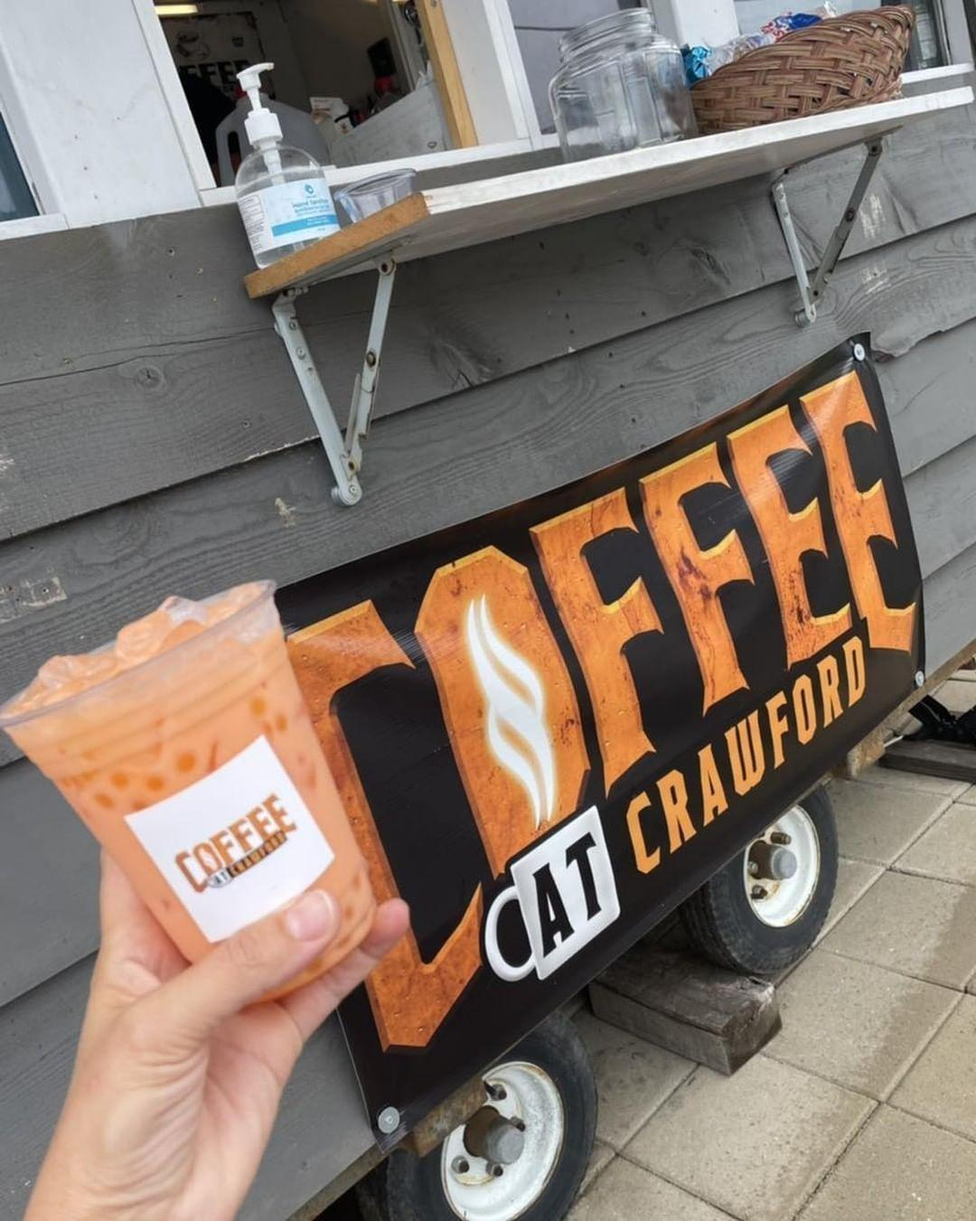cup-disposable: (2, 567, 384, 993)
